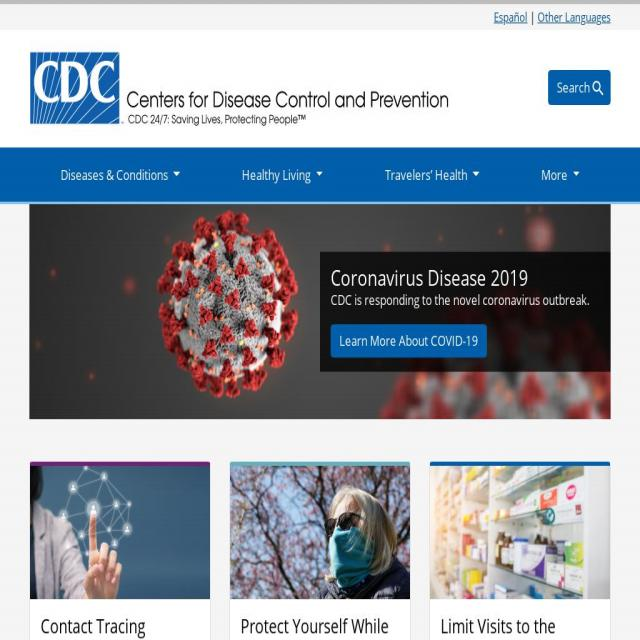language: (490, 8, 612, 28)
navigation-blocks: (32, 446, 619, 640)
navigation-links: (49, 152, 609, 203)
options: (531, 158, 584, 188)
search: (545, 65, 615, 110)
